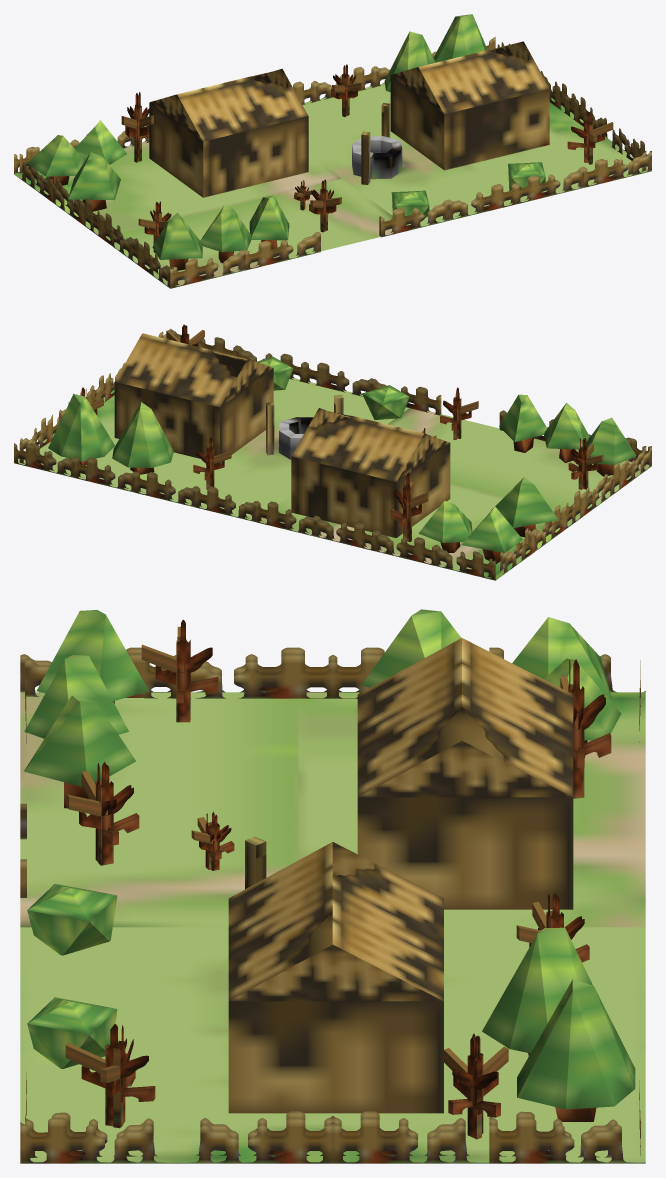
Rendered from Poly_World_Map_Town_House_07_Damaged.obj.
The picture shows the model from 3 angles, top to bottom: view 1: azimuth 30°, elevation 25°; view 2: azimuth 150°, elevation 25°; view 3: azimuth 270°, elevation 25°; orthographic projection. The views are drawn at different scales.
Visible parts, largest first — view 1: Plane, Cube.002_Cube.002, Cube.002_Cube.003, Grid, Cube.001_Cube.002, Cube.001_Cube.003, Cube.003_Cube.004, Cube.001_Cube.001, Cube.004_Cube.005; view 2: Plane, Cube.001_Cube.002, Grid, Cube.002_Cube.003, Cube.002_Cube.002, Cube.001_Cube.003, Cube.003_Cube.004, Cube.004_Cube.005, Cube.001_Cube.001; view 3: Plane, Cube.002_Cube.002, Cube.002_Cube.003, Cube.001_Cube.002, Grid, Cube.001_Cube.003, Cube.001_Cube.001, Cube.004_Cube.005.
Boxes of the visible parts, x1=… form: Plane: x1=14, y1=83, x2=647, y2=286; Cube.002_Cube.002: x1=390, y1=41, x2=549, y2=170; Cube.002_Cube.003: x1=149, y1=68, x2=308, y2=197; Grid: x1=14, y1=37, x2=651, y2=288; Cube.001_Cube.002: x1=27, y1=14, x2=545, y2=270; Cube.001_Cube.003: x1=121, y1=44, x2=510, y2=253; Cube.003_Cube.004: x1=352, y1=136, x2=402, y2=179; Cube.001_Cube.001: x1=567, y1=111, x2=613, y2=164; Cube.004_Cube.005: x1=361, y1=103, x2=390, y2=184; Plane: x1=18, y1=378, x2=649, y2=579; Cube.001_Cube.002: x1=48, y1=356, x2=636, y2=563; Grid: x1=14, y1=328, x2=651, y2=580; Cube.002_Cube.003: x1=291, y1=408, x2=450, y2=537; Cube.002_Cube.002: x1=114, y1=333, x2=273, y2=463; Cube.001_Cube.003: x1=68, y1=387, x2=603, y2=541; Cube.003_Cube.004: x1=279, y1=417, x2=313, y2=459; Cube.004_Cube.005: x1=266, y1=395, x2=343, y2=455; Cube.001_Cube.001: x1=166, y1=324, x2=204, y2=346; Plane: x1=20, y1=692, x2=645, y2=1162; Cube.002_Cube.002: x1=228, y1=842, x2=443, y2=1113; Cube.002_Cube.003: x1=357, y1=638, x2=573, y2=909; Cube.001_Cube.002: x1=24, y1=609, x2=635, y2=1121; Grid: x1=20, y1=647, x2=645, y2=1163; Cube.001_Cube.003: x1=66, y1=619, x2=611, y2=1139; Cube.001_Cube.001: x1=65, y1=1024, x2=155, y2=1128; Cube.004_Cube.005: x1=245, y1=836, x2=266, y2=889.
Bounding box in the file's own units: 1.62 × 0.2705 × 0.9.
Materials: 1 (1 with a texture image).
